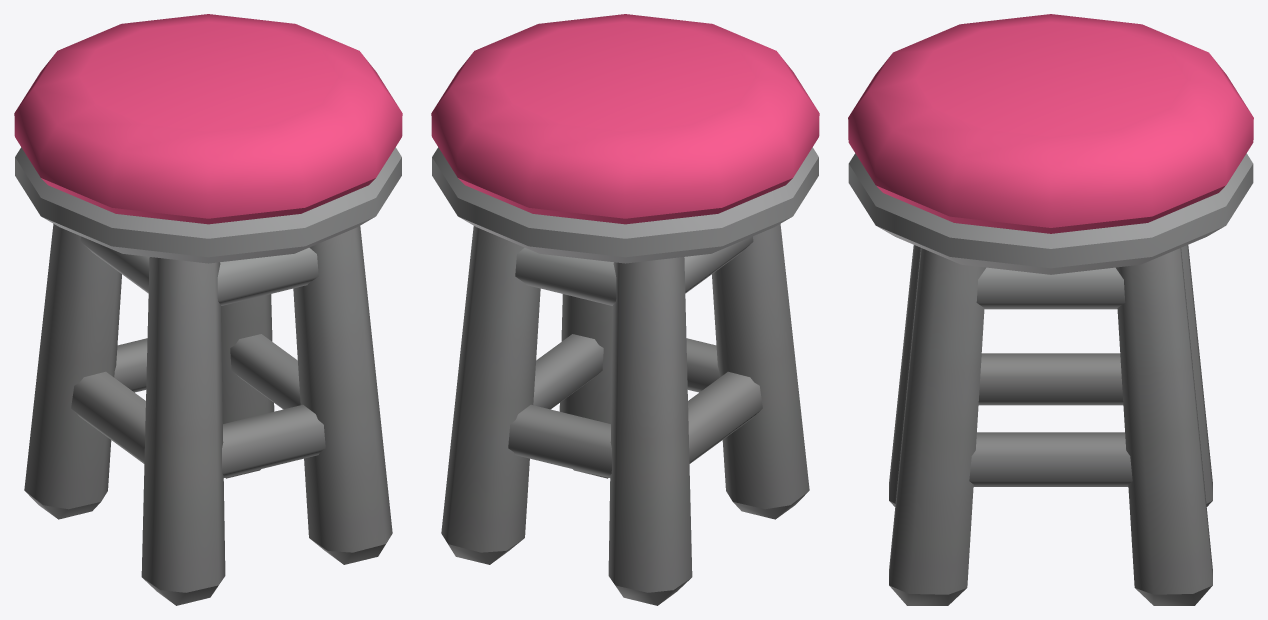
Rendered from Stool_2_I.glb.
3 views of the same model, side by side, from view 1: azimuth 30°, elevation 25°; view 2: azimuth 150°, elevation 25°; view 3: azimuth 270°, elevation 25° (orthographic). The views are drawn at different scales.
Parts seen in each view (by area): view 1: Stool_2_I; view 2: Stool_2_I; view 3: Stool_2_I.
Part boxes in pixels (x1,y1,x2,y2): Stool_2_I: (14, 14, 402, 605); Stool_2_I: (431, 14, 819, 605); Stool_2_I: (848, 14, 1253, 605).
Bounding box in the file's own units: 0.4425 × 0.5714 × 0.4425.
2 materials, 2 textured.
